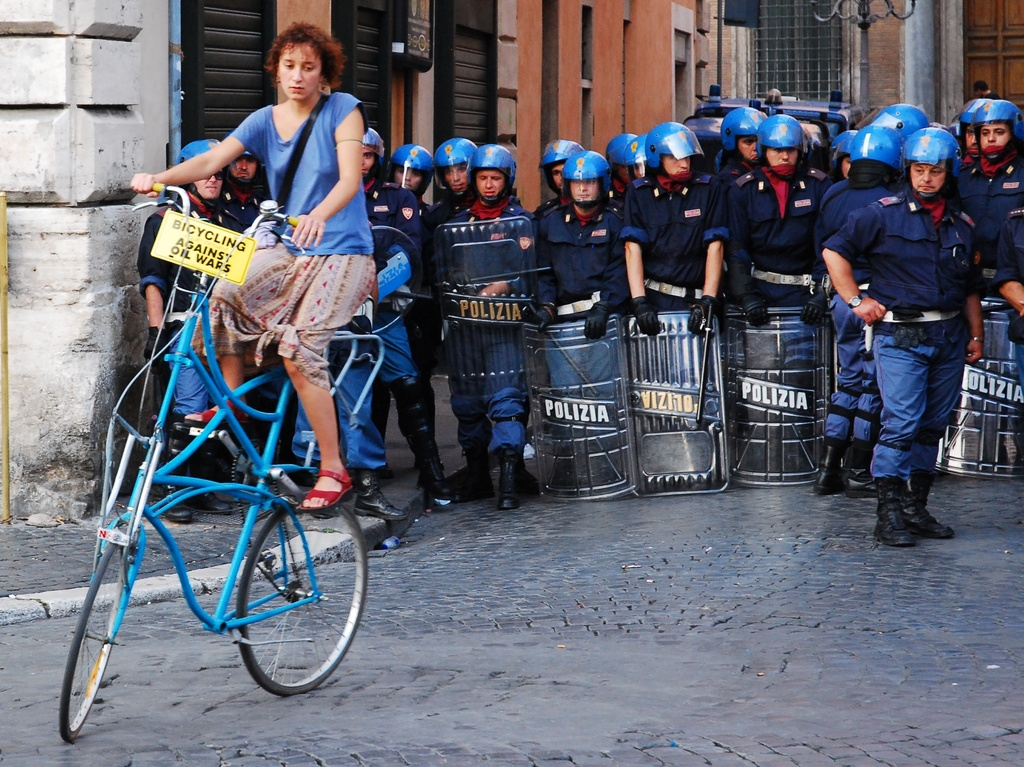Bike_toward: (50, 183, 390, 743)
